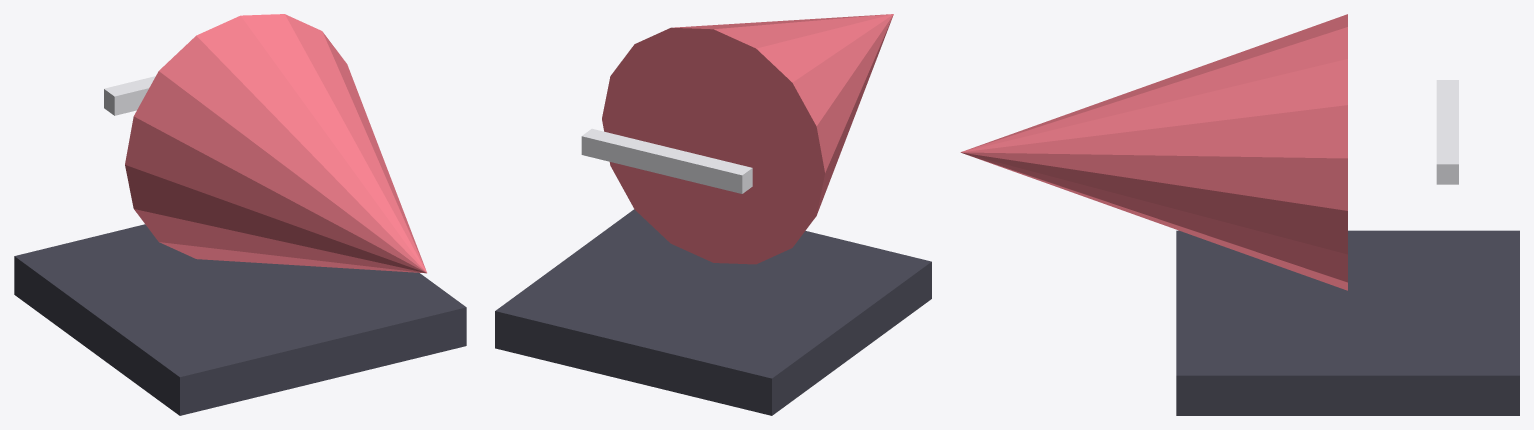
Rendered from cone_traffic.glb.
3 renders of one model, left to right at view 1: azimuth 30°, elevation 25°; view 2: azimuth 150°, elevation 25°; view 3: azimuth 270°, elevation 25°, orthographic. The views are drawn at different scales.
Visible parts, largest first — view 1: cone, base, stripe; view 2: base, cone, stripe; view 3: base, cone, stripe.
Boxes of the visible parts, x1,y1,x2,y2 form: cone: [125, 14, 426, 273]; base: [14, 224, 466, 415]; stripe: [104, 76, 155, 115]; base: [495, 209, 931, 415]; cone: [602, 14, 893, 264]; stripe: [581, 128, 752, 193]; base: [1176, 230, 1519, 415]; cone: [960, 14, 1347, 290]; stripe: [1436, 80, 1458, 184].
Bounding box in the file's own units: 0.62 × 0.63 × 1.01.
